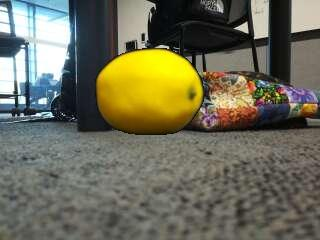lemon: (97, 48, 203, 134)
